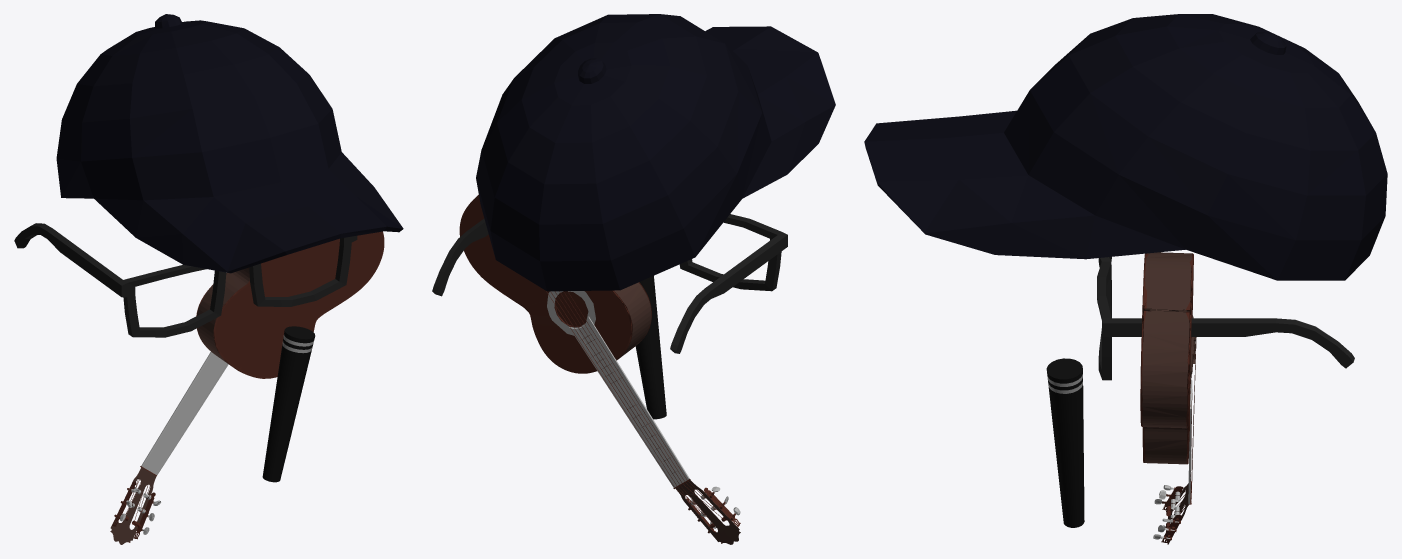
The model's file is Statuetta di Ed Sheeran.dae.
3 views of the same model, side by side, from view 1: azimuth 30°, elevation 25°; view 2: azimuth 150°, elevation 25°; view 3: azimuth 270°, elevation 25° (orthographic). The views are drawn at different scales.
Visible parts, largest first — view 1: Modello_Cappello, Modello_Chitarra, Modello_Occhiali, Modelllo_Microfono; view 2: Modello_Cappello, Modello_Chitarra, Modello_Occhiali, Modelllo_Microfono; view 3: Modello_Cappello, Modello_Chitarra, Modello_Occhiali, Modelllo_Microfono.
Boxes of the visible parts, x1=… form: Modello_Cappello: x1=56, y1=14, x2=403, y2=273; Modello_Chitarra: x1=110, y1=231, x2=384, y2=544; Modello_Occhiali: x1=14, y1=223, x2=357, y2=337; Modelllo_Microfono: x1=262, y1=326, x2=315, y2=482; Modello_Cappello: x1=476, y1=14, x2=835, y2=291; Modello_Chitarra: x1=459, y1=194, x2=740, y2=544; Modello_Occhiali: x1=432, y1=214, x2=787, y2=353; Modelllo_Microfono: x1=635, y1=276, x2=666, y2=419; Modello_Cappello: x1=864, y1=14, x2=1387, y2=280; Modello_Chitarra: x1=1140, y1=252, x2=1196, y2=544; Modello_Occhiali: x1=1097, y1=257, x2=1354, y2=380; Modelllo_Microfono: x1=1046, y1=358, x2=1084, y2=527.
Bounding box in the file's own units: 0.0784 × 0.1292 × 0.1085.
